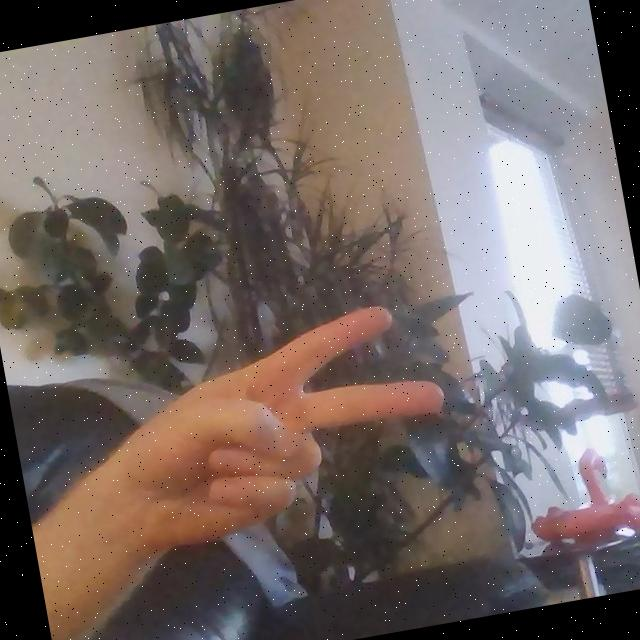scissors: (104, 288, 466, 558)
